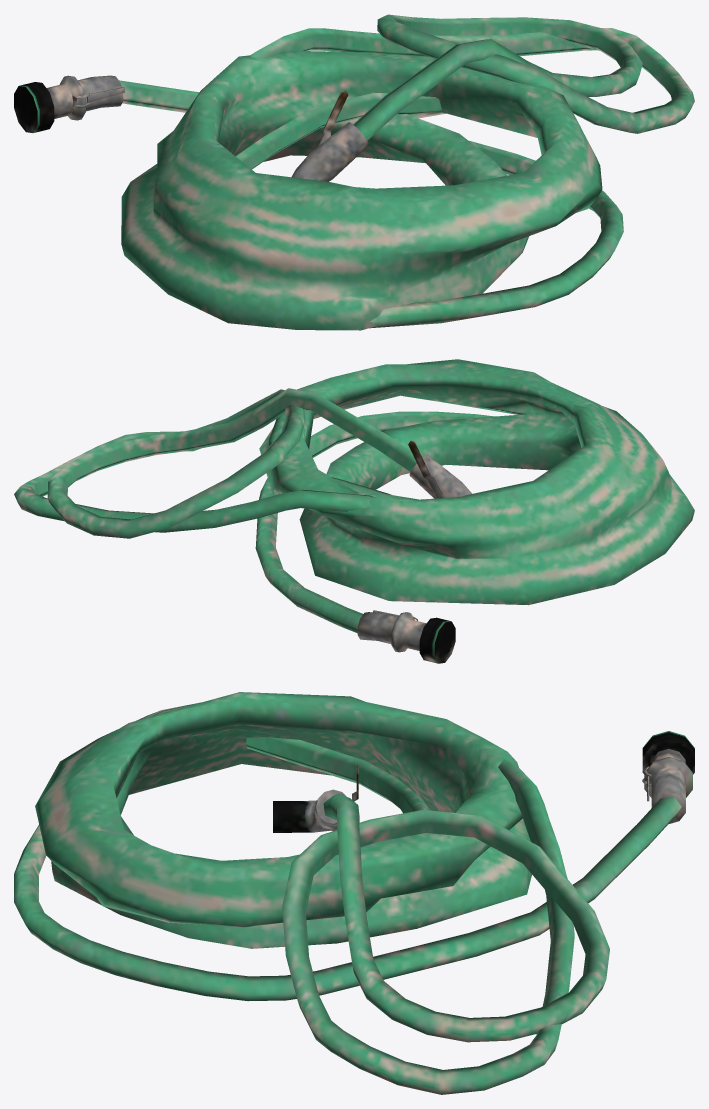
File: sm22_045_flatcurledhose01a.fbx
3 renders of one model, top to bottom at view 1: azimuth 30°, elevation 25°; view 2: azimuth 150°, elevation 25°; view 3: azimuth 270°, elevation 25°, orthographic. The views are drawn at different scales.
Visible parts, largest first — view 1: LOD_1_Group_0_Sub_1__sm22_045_FlatCurledHose01A_A_Mat; view 2: LOD_1_Group_0_Sub_1__sm22_045_FlatCurledHose01A_A_Mat; view 3: LOD_1_Group_0_Sub_1__sm22_045_FlatCurledHose01A_A_Mat.
Boxes of the visible parts, x1,y1,x2,y2 form: LOD_1_Group_0_Sub_1__sm22_045_FlatCurledHose01A_A_Mat: (14,14,694,330); LOD_1_Group_0_Sub_1__sm22_045_FlatCurledHose01A_A_Mat: (14,359,694,663); LOD_1_Group_0_Sub_1__sm22_045_FlatCurledHose01A_A_Mat: (14,692,694,1094).
Bounding box in the file's own units: 1.43 × 0.3218 × 1.25.
